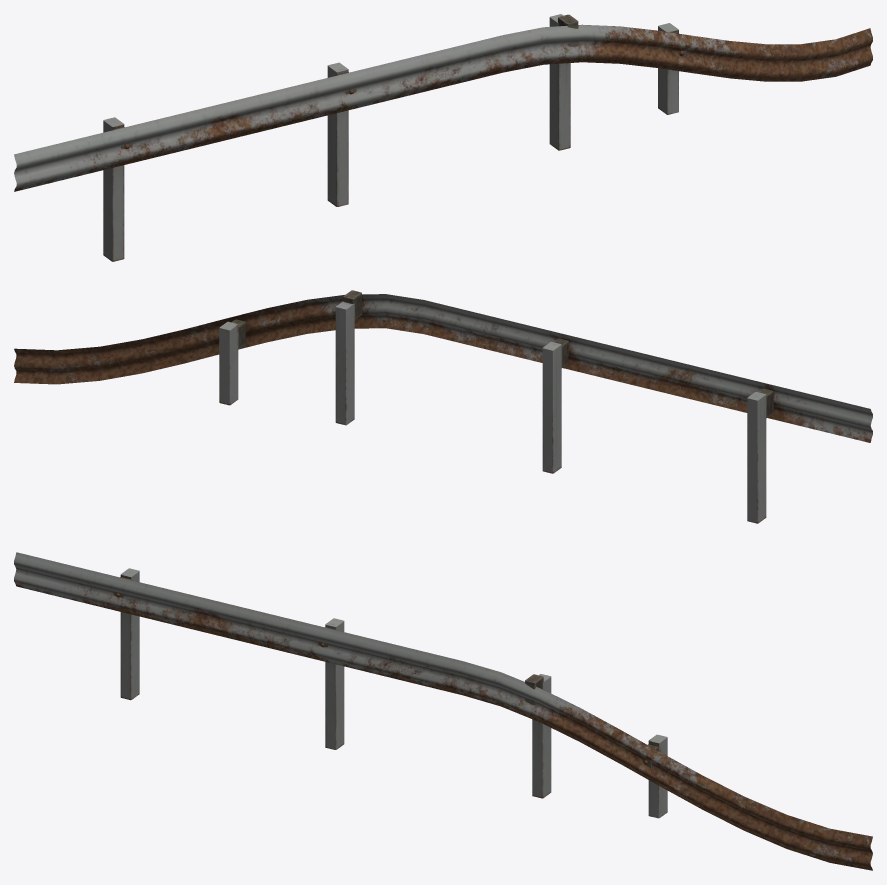
The model's file is guardrail_end.glb.
3 renders of one model, top to bottom at view 1: azimuth 30°, elevation 25°; view 2: azimuth 150°, elevation 25°; view 3: azimuth 330°, elevation 25°, orthographic. The views are drawn at different scales.
Parts seen in each view (by area): view 1: guardrail_end; view 2: guardrail_end; view 3: guardrail_end.
Part boxes in pixels (x1,y1,x2,y2): guardrail_end: (14,14,872,261); guardrail_end: (14,290,872,523); guardrail_end: (14,552,872,870).
Size of the model in its own units: 7.8 by 1.33 by 0.6615.
1 material, 1 textured.
